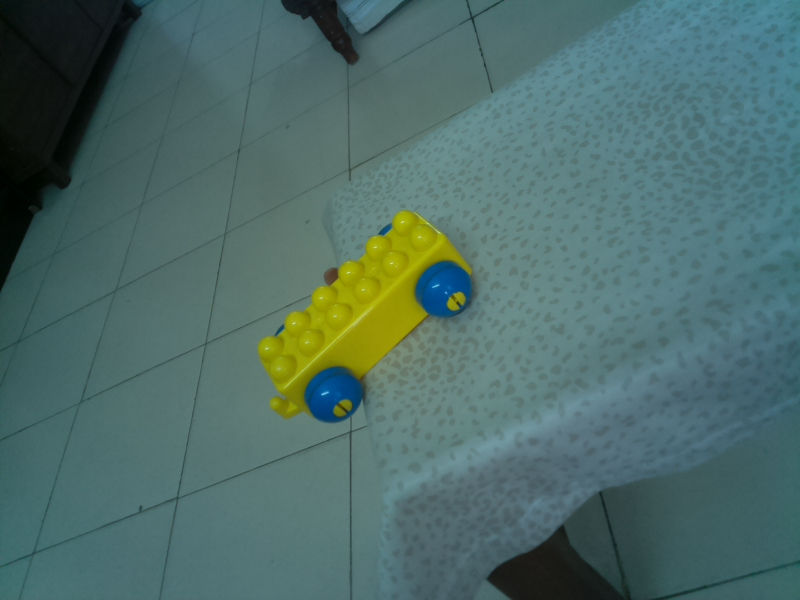toy_Car: (251, 204, 480, 427)
